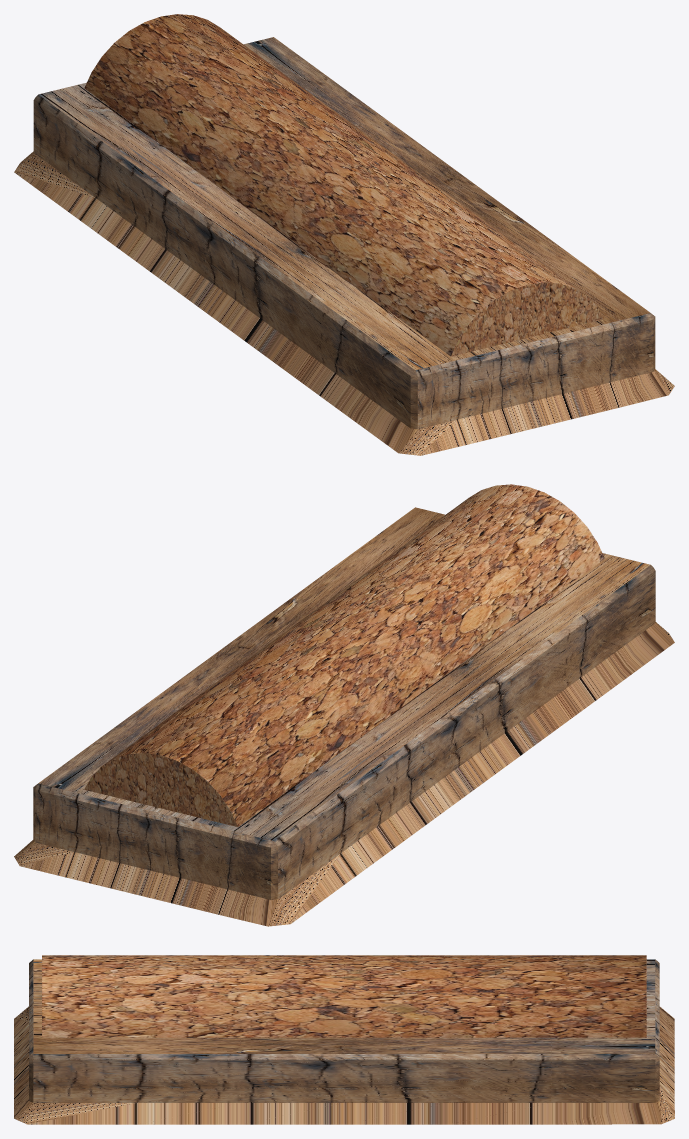
Rendered from WBStand.fbx.
3 renders of one model, top to bottom at view 1: azimuth 30°, elevation 25°; view 2: azimuth 150°, elevation 25°; view 3: azimuth 270°, elevation 25°, orthographic. The views are drawn at different scales.
Visible parts, largest first — view 1: Cube, Cylinder; view 2: Cube, Cylinder; view 3: Cube, Cylinder.
Part boxes in pixels (left/top/right/bottom): Cube: left=14, top=37, right=674, bottom=455; Cylinder: left=84, top=14, right=604, bottom=356; Cube: left=14, top=507, right=674, bottom=926; Cylinder: left=84, top=484, right=604, bottom=826; Cube: left=14, top=959, right=674, bottom=1124; Cylinder: left=42, top=955, right=646, bottom=1037.
Bounding box in the file's own units: 150 × 66.88 × 376.
Materials: 2 (2 with a texture image).
